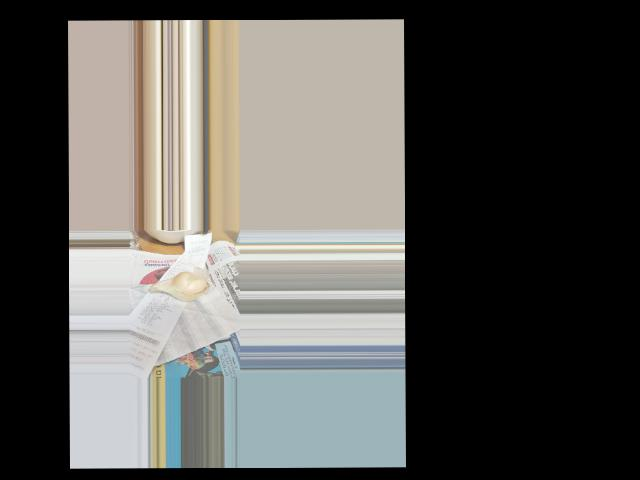onion: (153, 272, 207, 304)
